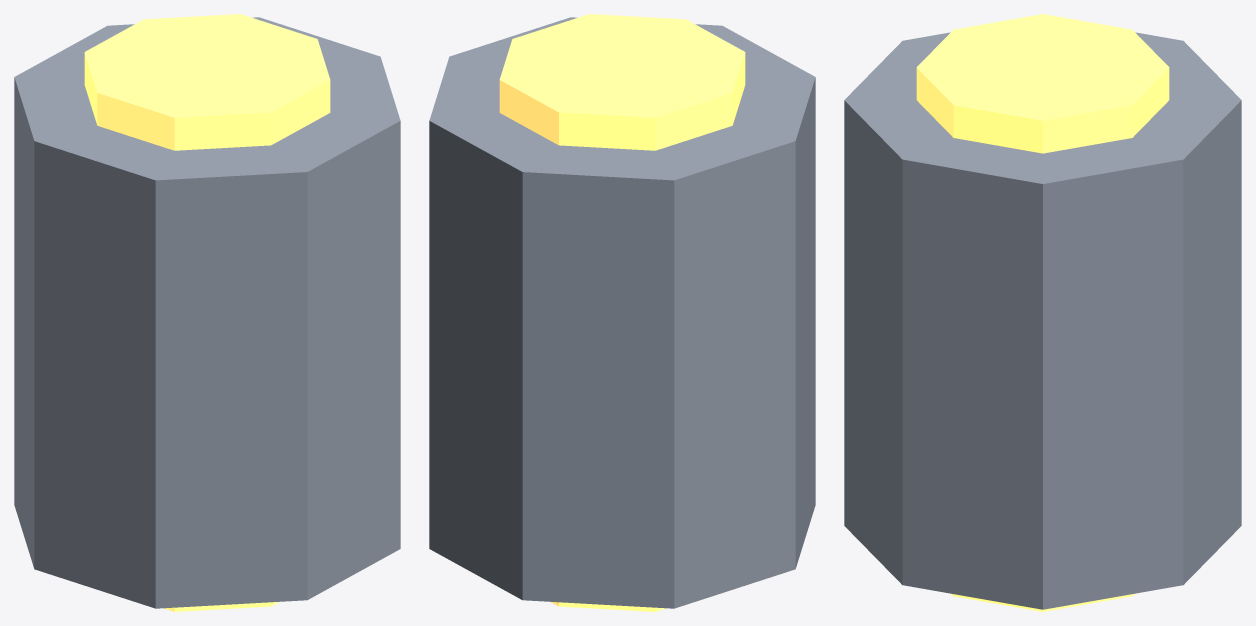
File: explosive_charge_cell.glb
3 renders of one model, left to right at view 1: azimuth 30°, elevation 25°; view 2: azimuth 150°, elevation 25°; view 3: azimuth 270°, elevation 25°, orthographic.
Visible parts, largest first — view 1: explosive_charge_cell; view 2: explosive_charge_cell; view 3: explosive_charge_cell.
Boxes of the visible parts, x1,y1,x2,y2 form: explosive_charge_cell: (14,14,400,611); explosive_charge_cell: (429,14,815,611); explosive_charge_cell: (844,14,1241,611).
Bounding box in the file's own units: 0.22 × 0.3 × 0.22.
